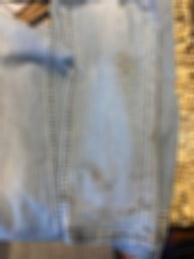earth: (116, 51, 137, 88), (90, 171, 112, 191), (92, 208, 120, 222), (129, 201, 150, 215)
